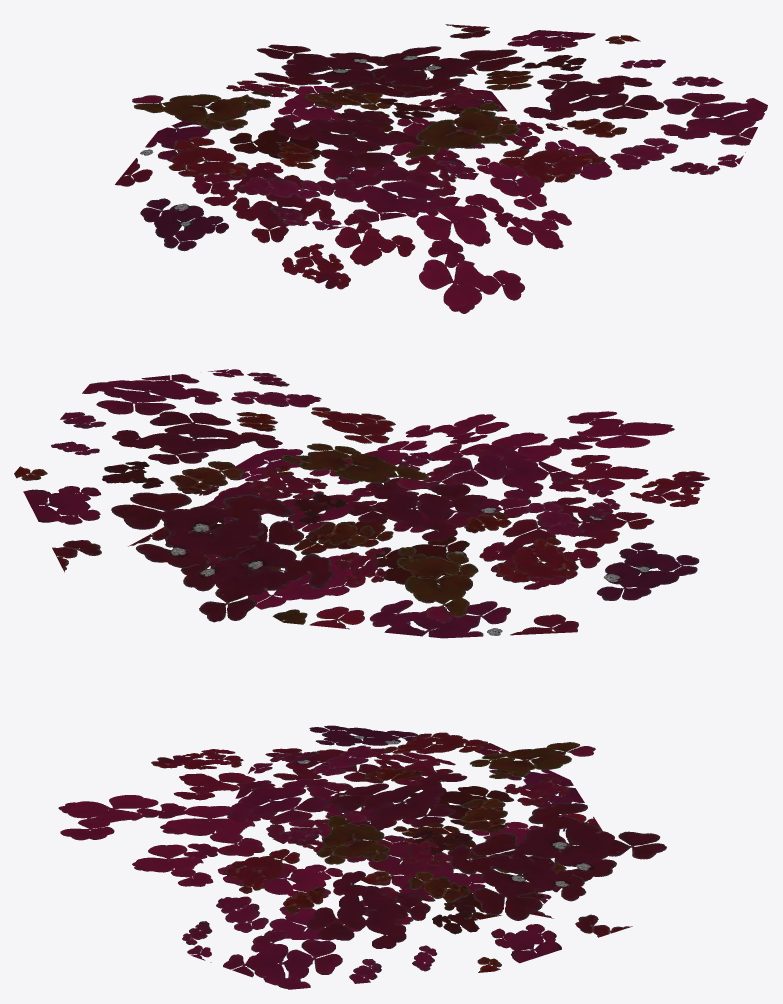
The picture shows the model from 3 angles, top to bottom: view 1: azimuth 30°, elevation 25°; view 2: azimuth 150°, elevation 25°; view 3: azimuth 270°, elevation 25°; orthographic projection. The views are drawn at different scales.
Parts seen in each view (by area): view 1: SM_WT_Sorrel_01_B_LOD0; view 2: SM_WT_Sorrel_01_B_LOD0; view 3: SM_WT_Sorrel_01_B_LOD0.
Part boxes in pixels (box(x1,y1,x2,y2)): SM_WT_Sorrel_01_B_LOD0: box(115, 24, 767, 313); SM_WT_Sorrel_01_B_LOD0: box(14, 369, 709, 638); SM_WT_Sorrel_01_B_LOD0: box(58, 725, 666, 989).
Bounding box in the file's own units: 1.2 × 0.1087 × 1.29.
Materials: 1 (1 with a texture image).
